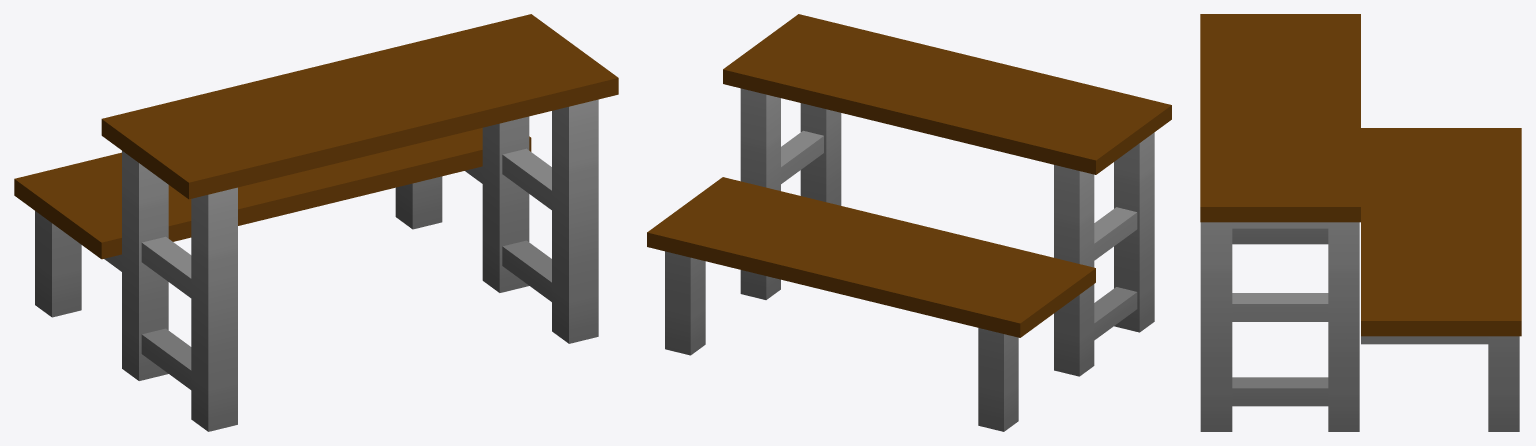
The model's file is Bench_1_D_6.fbx.
3 renders of one model, left to right at view 1: azimuth 30°, elevation 25°; view 2: azimuth 150°, elevation 25°; view 3: azimuth 270°, elevation 25°, orthographic. The views are drawn at different scales.
Visible parts, largest first — view 1: Bench_1_D_6; view 2: Bench_1_D_6; view 3: Bench_1_D_6.
Part boxes in pixels (x1=…): Bench_1_D_6: x1=14, y1=14, x2=618, y2=431; Bench_1_D_6: x1=647, y1=14, x2=1171, y2=431; Bench_1_D_6: x1=1200, y1=14, x2=1521, y2=431.
Size of the model in its own units: 116 by 65.4 by 81.37.
